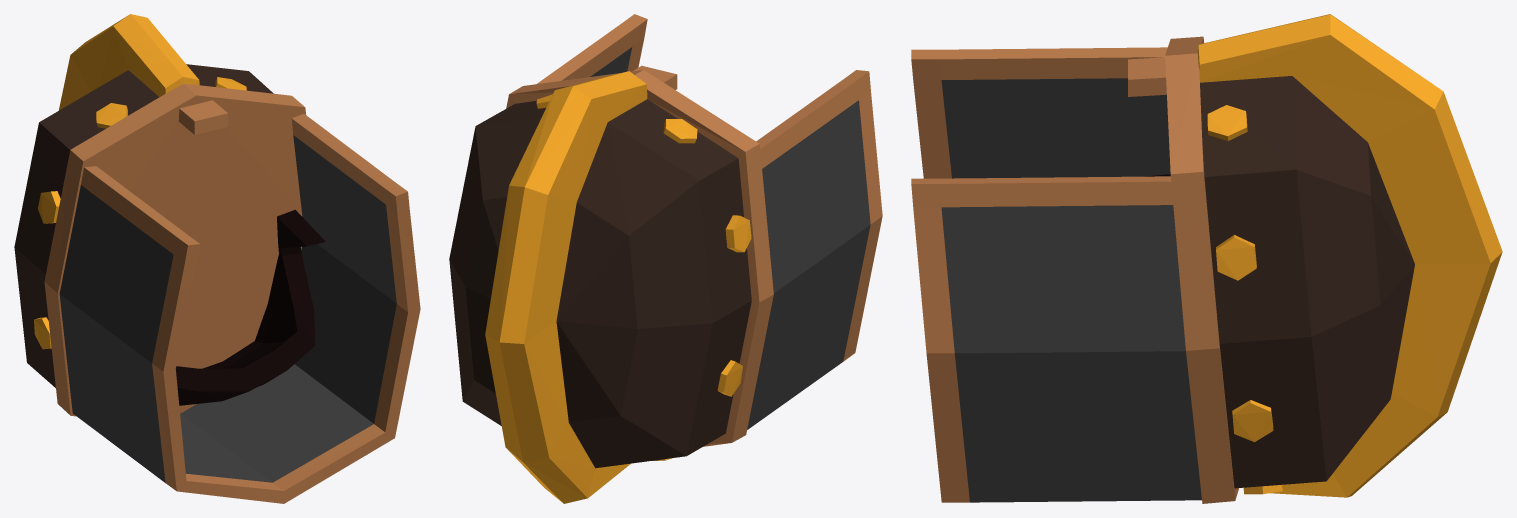
File: Helmet 03.FBX
3 views of the same model, side by side, from view 1: azimuth 30°, elevation 25°; view 2: azimuth 150°, elevation 25°; view 3: azimuth 270°, elevation 25° (orthographic). The views are drawn at different scales.
Visible parts, largest first — view 1: Helmet 03, Hair Headgear; view 2: Helmet 03; view 3: Helmet 03.
Boxes of the visible parts, x1=… form: Helmet 03: x1=14, y1=14, x2=420, y2=503; Hair Headgear: x1=176, y1=209, x2=325, y2=405; Helmet 03: x1=449, y1=14, x2=882, y2=503; Helmet 03: x1=911, y1=14, x2=1502, y2=503.
Bounding box in the file's own units: 31.5 × 44.46 × 49.48.
2 materials, 1 textured.
